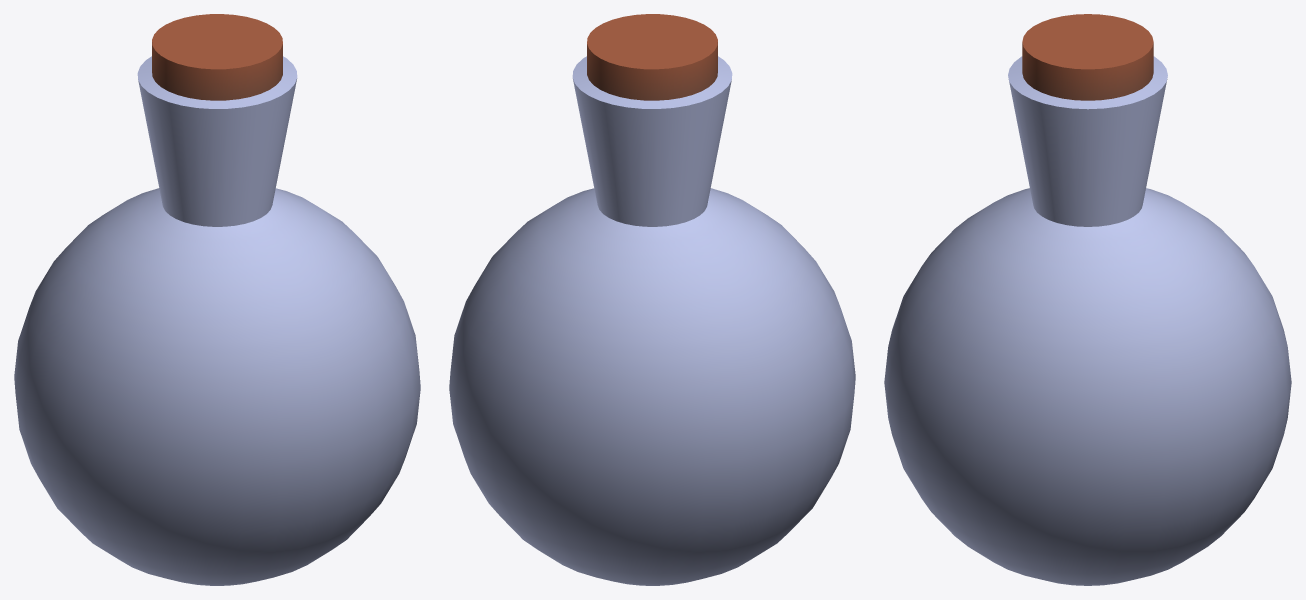
File: Potion1.fbx
3 renders of one model, left to right at view 1: azimuth 30°, elevation 25°; view 2: azimuth 150°, elevation 25°; view 3: azimuth 270°, elevation 25°, orthographic.
Visible parts, largest first — view 1: Round-Potion.001; view 2: Round-Potion.001; view 3: Round-Potion.001.
Boxes of the visible parts, bbox=[...] form: Round-Potion.001: bbox=[14, 14, 420, 585]; Round-Potion.001: bbox=[449, 14, 855, 585]; Round-Potion.001: bbox=[884, 14, 1291, 585].
Size of the model in its own units: 21.58 by 30.71 by 21.58.
